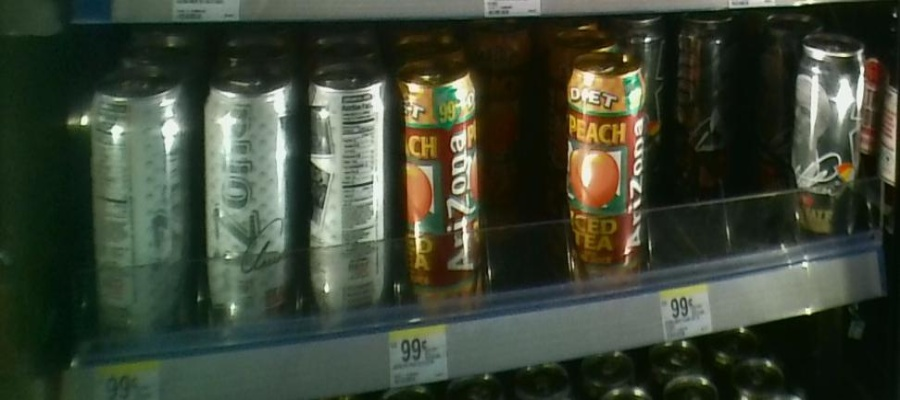bottle: (82, 70, 199, 342), (201, 64, 302, 336), (394, 55, 483, 323), (305, 57, 392, 329), (558, 46, 644, 294), (785, 27, 868, 232), (681, 20, 733, 157)
